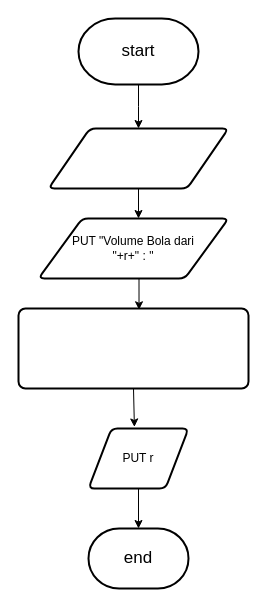
The diagram is 266 pixels wide and 606 high, and some of its shapes have lost their labels. Here are the shapes that lost their labels. From the top down, the centre of each, then its label:
(138,158): "Masukkan jari-jari : " GET r
(133,348): r 4/3 * 3.14 * r * r * r
